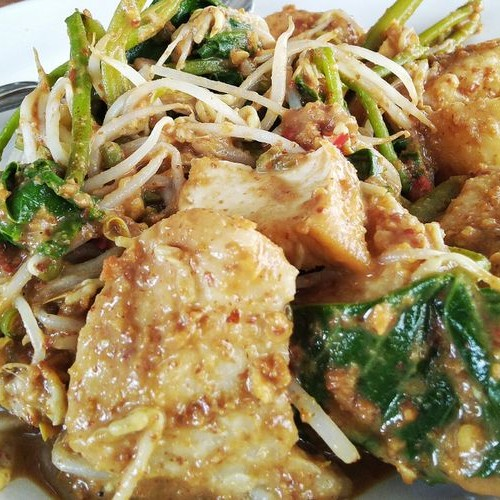tipat cantok: (21, 19, 465, 466)
